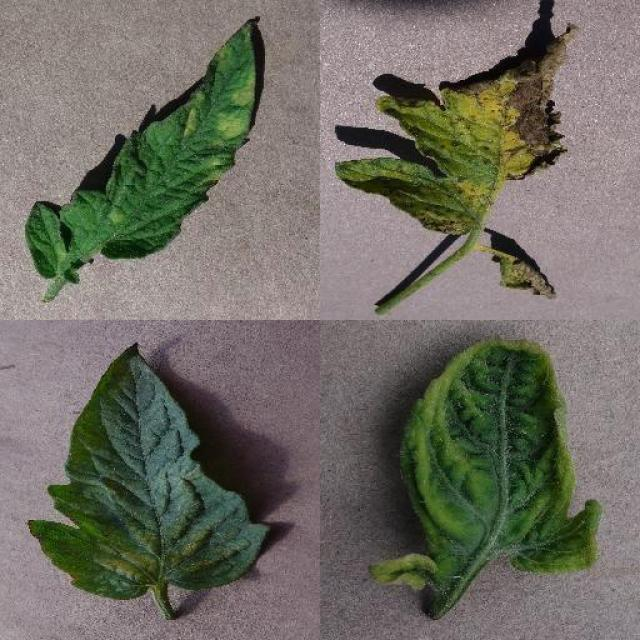Septoria: (335, 24, 581, 236)
